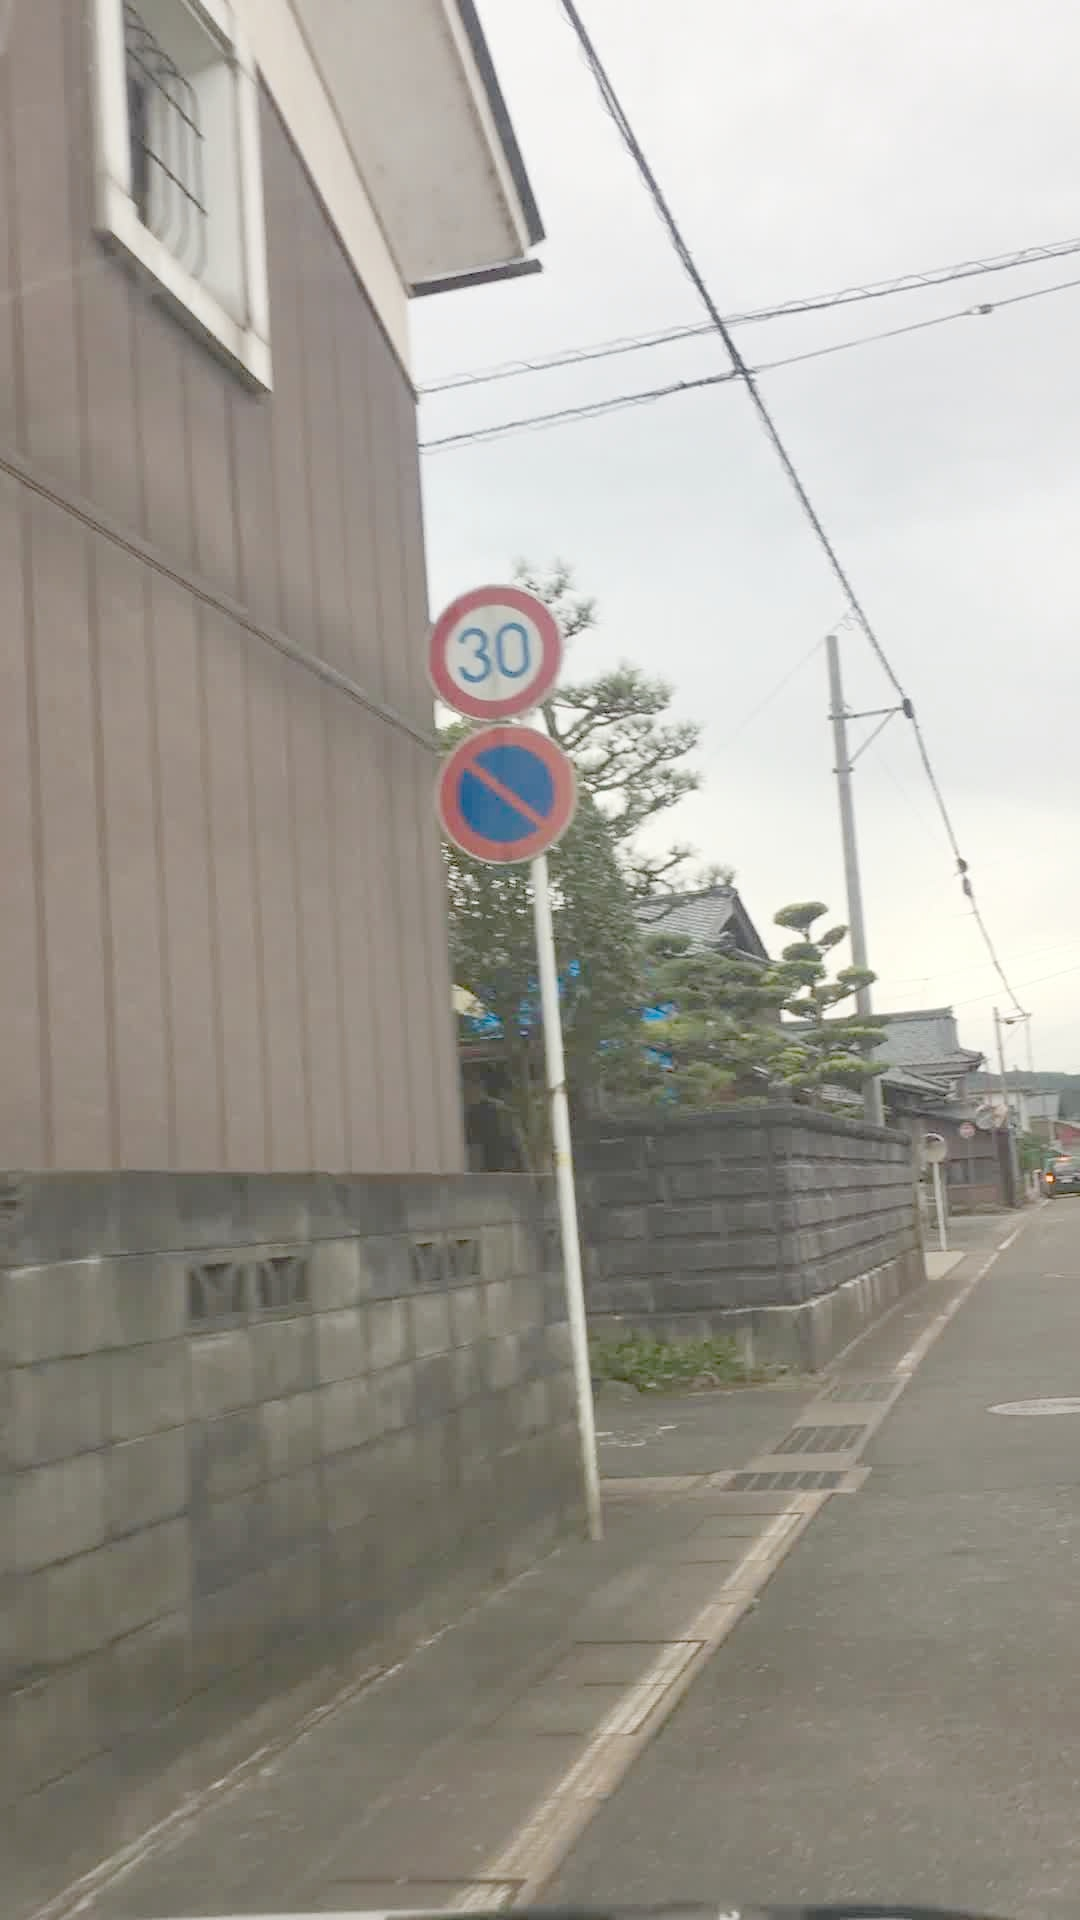Prohibition_sign: (429, 728, 600, 878)
Speed_sign: (419, 580, 578, 727)
